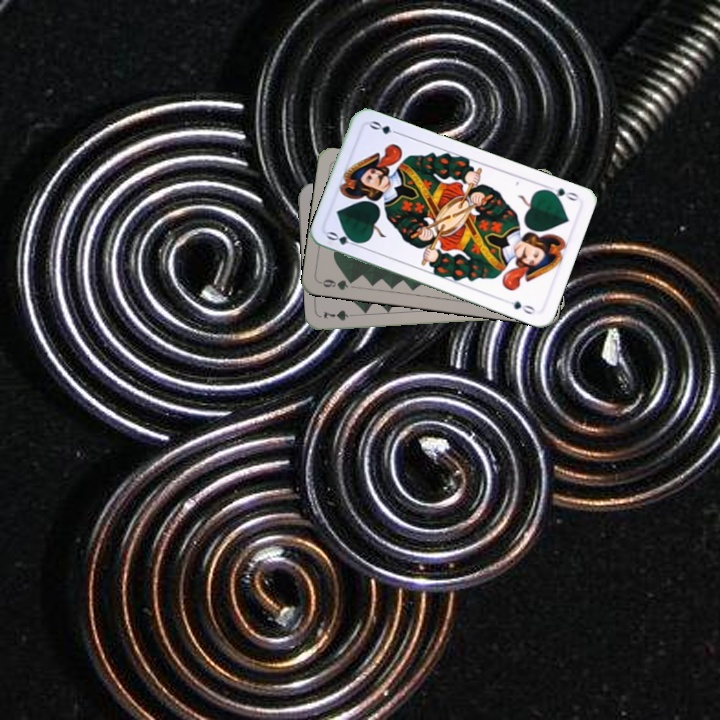G7: (319, 306, 360, 323)
G9: (316, 275, 357, 293)
GO: (323, 227, 364, 250), (541, 183, 581, 204)
